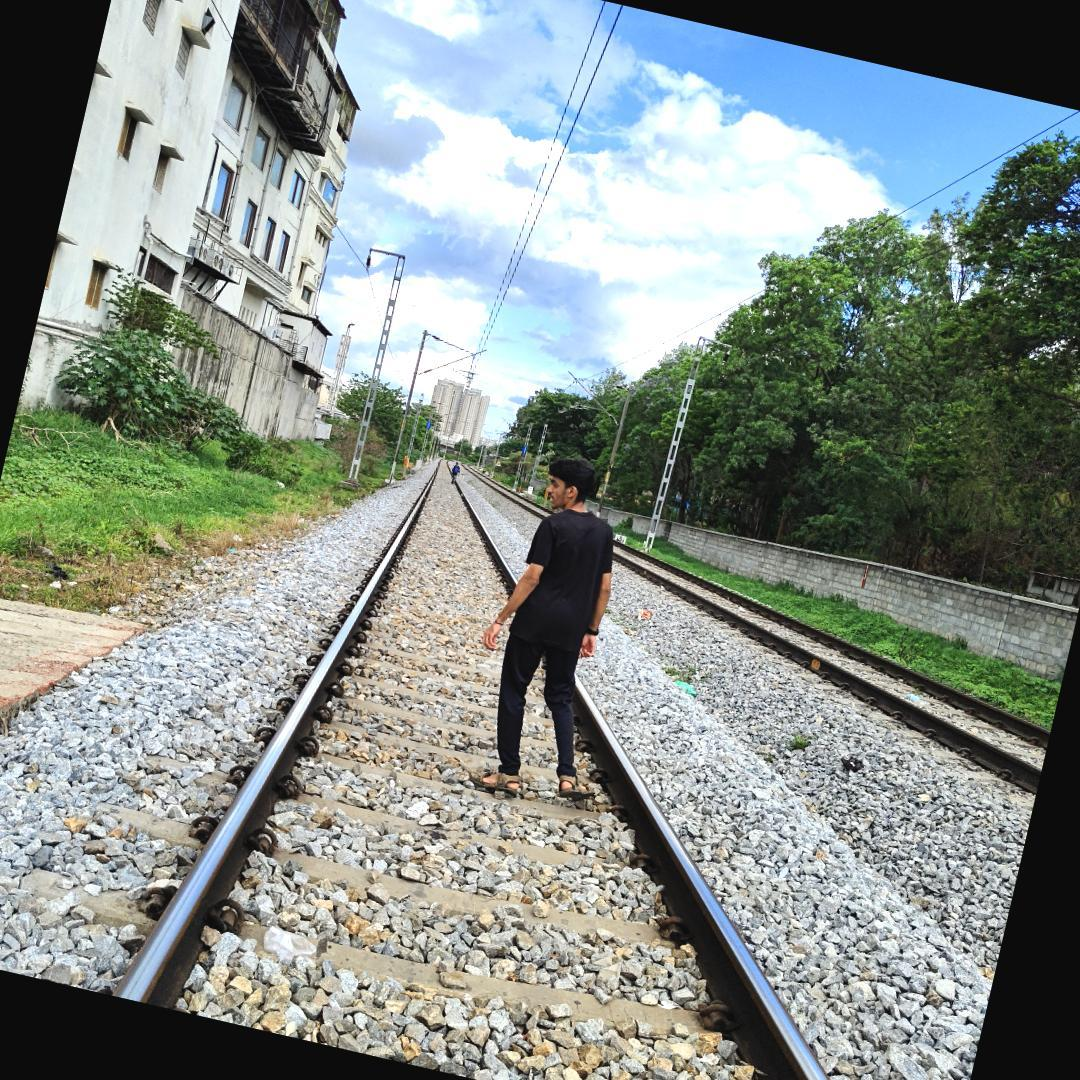standing: (450, 439, 637, 812)
